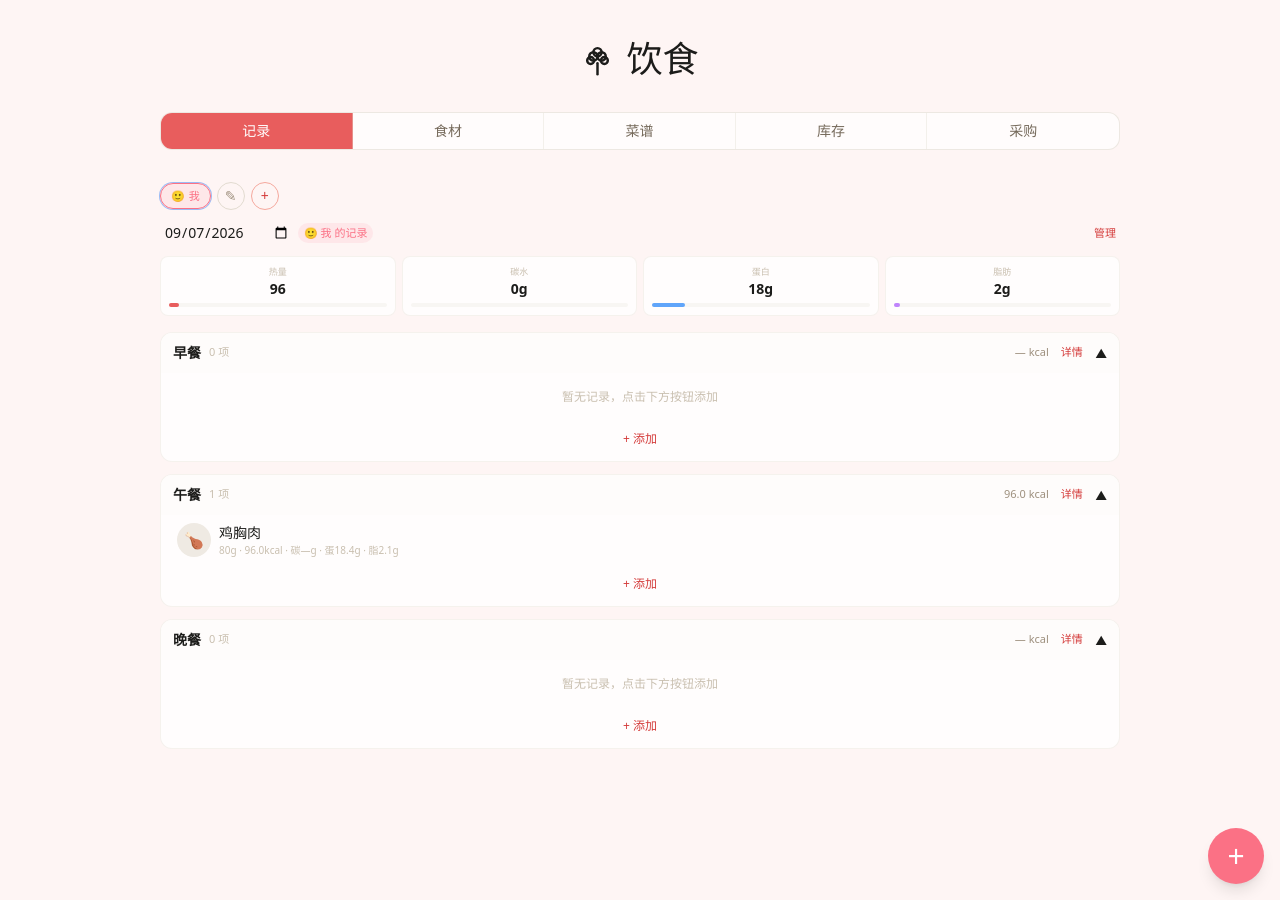
Scenario: 修复：非首个餐次的记录可正常打开编辑（位置定位） › 点击午餐记录仍能打开编辑抽屉，且不报「位置已变」
Click the element with test id "log-row" at (288, 540), box [177,522,399,557]
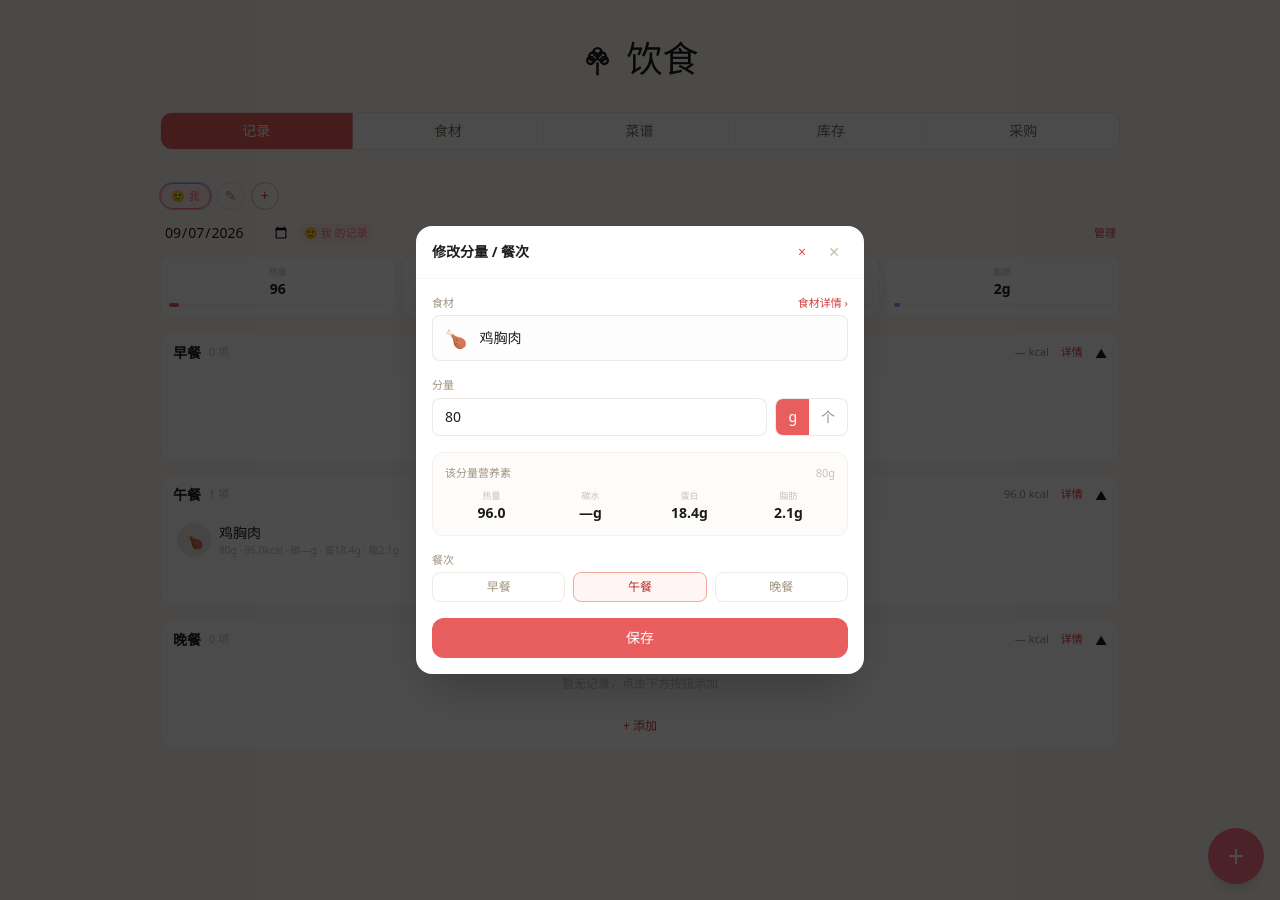
Now the element with test id "edit-sheet" is shown
